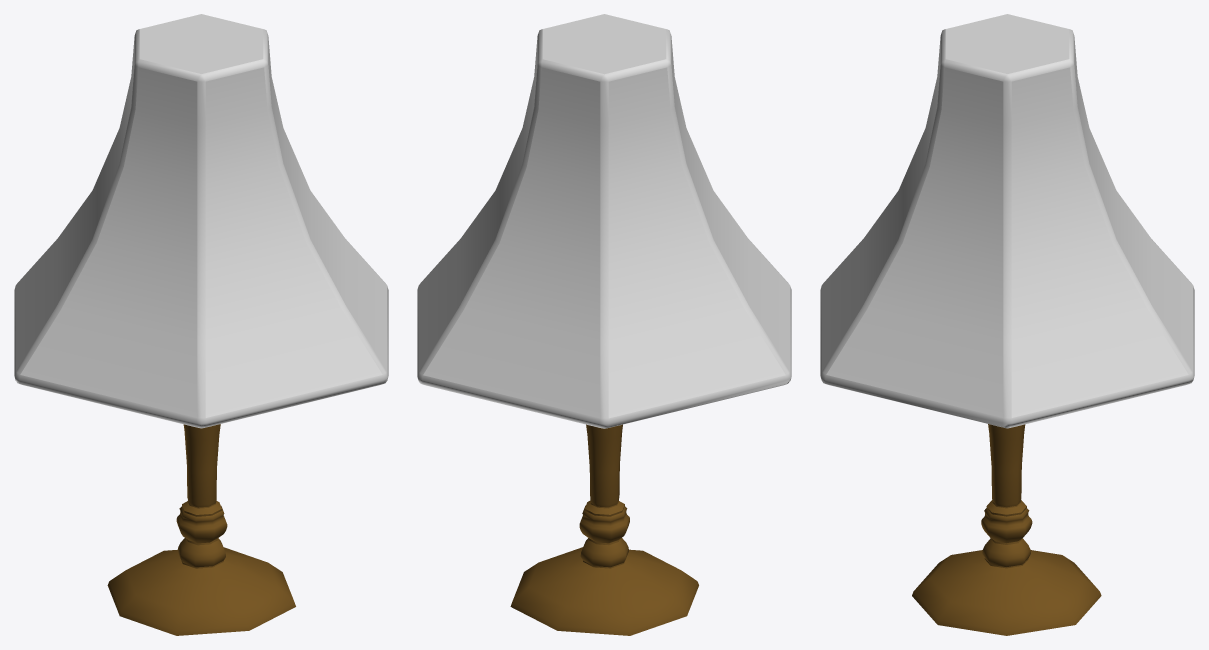
File: Lamp_2.fbx
3 renders of one model, left to right at view 1: azimuth 30°, elevation 25°; view 2: azimuth 150°, elevation 25°; view 3: azimuth 270°, elevation 25°, orthographic.
Parts seen in each view (by area): view 1: Lamp_2; view 2: Lamp_2; view 3: Lamp_2.
Boxes of the visible parts, x1,y1,x2,y2 form: Lamp_2: [14, 14, 388, 635]; Lamp_2: [417, 14, 791, 635]; Lamp_2: [820, 14, 1194, 635].
Size of the model in its own units: 42.17 by 59.73 by 36.7.
